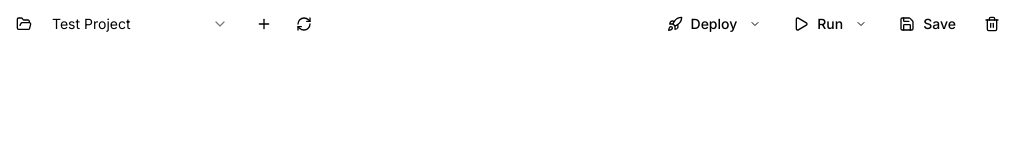
ProjectToolbar › should show project options when selector is clicked
Step 1. Click the dropdown → (140,24), box [40, 8, 240, 40]
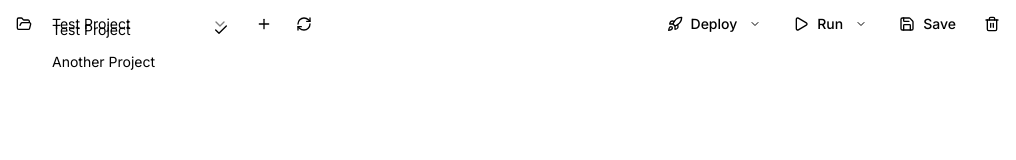
Check: the text "Another Project" is shown, box [52, 52, 155, 72]
